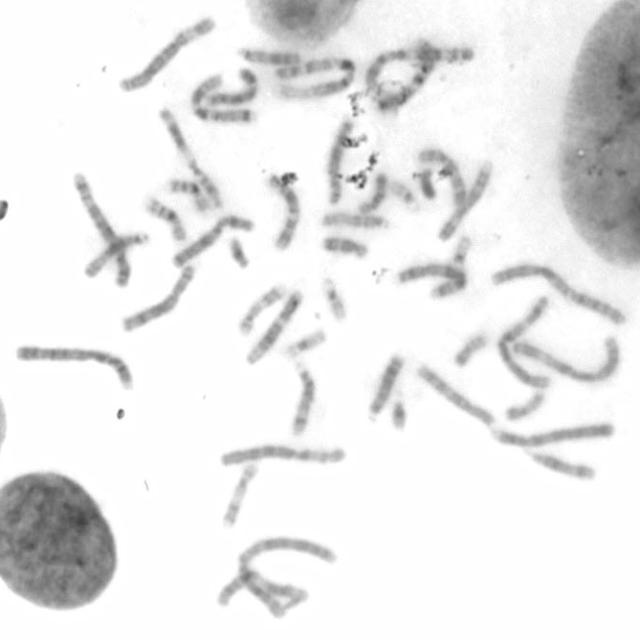A1: (366, 38, 474, 108), (269, 52, 357, 100)
A2: (486, 259, 629, 326), (230, 531, 340, 618)
A3: (503, 329, 622, 385), (496, 301, 566, 385)
B4: (9, 339, 136, 393), (488, 418, 617, 448)
B5: (69, 168, 132, 288), (396, 261, 466, 301)
C10: (410, 357, 498, 429), (413, 143, 470, 208)
C11: (154, 102, 227, 212), (214, 567, 311, 610)
C12: (242, 285, 305, 366), (266, 172, 302, 253)
C6: (115, 10, 218, 93), (215, 440, 348, 470)
C7: (366, 33, 444, 114), (185, 65, 259, 125)
C8: (117, 260, 197, 333), (321, 114, 355, 206)
C9: (432, 154, 494, 243), (204, 65, 259, 109)
D13: (362, 346, 407, 424), (232, 42, 302, 66)
D14: (517, 444, 598, 482), (285, 356, 318, 438)
D15: (79, 227, 152, 280), (318, 208, 392, 230)
E16: (139, 190, 188, 243), (164, 175, 212, 213)
E17: (217, 456, 261, 528), (234, 279, 287, 337)
E18: (316, 230, 370, 260), (354, 169, 388, 213)
F19: (280, 325, 328, 360), (445, 234, 473, 275)
F20: (500, 385, 548, 423), (448, 326, 489, 369)
G21: (224, 233, 252, 271), (386, 394, 409, 433)
G22: (317, 272, 350, 322), (386, 176, 420, 212)
X: (168, 210, 256, 269)
Y: (414, 166, 438, 201)
